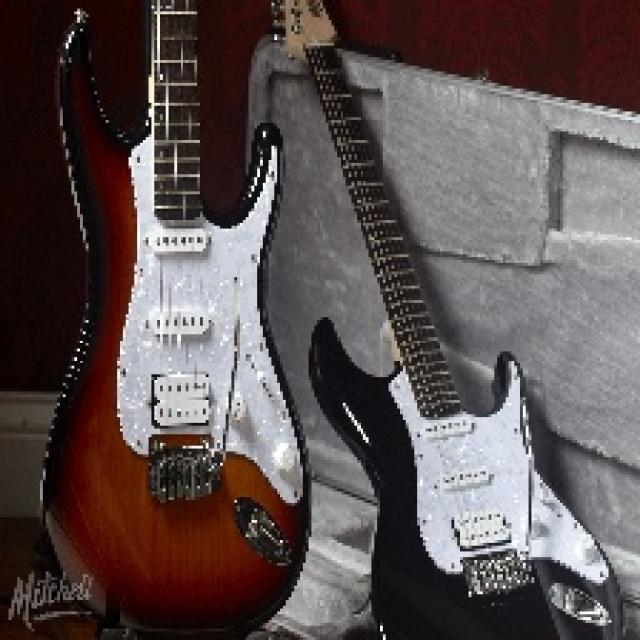guitar: (269, 0, 625, 640), (43, 0, 308, 637)
